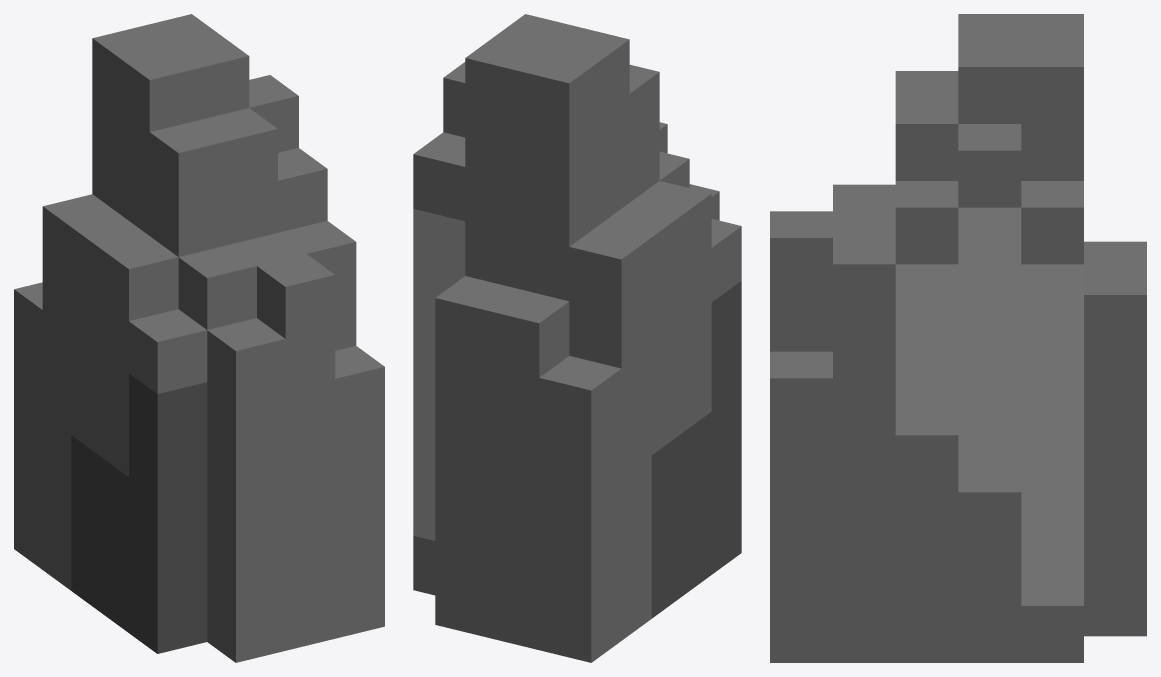
The model's file is Golem Arm.obj.
The picture shows the model from 3 angles, left to right: view 1: azimuth 30°, elevation 25°; view 2: azimuth 150°, elevation 25°; view 3: azimuth 270°, elevation 25°; orthographic projection. The views are drawn at different scales.
Bounding box in the file's own units: 4 × 10 × 6.
Materials: 1 (1 with a texture image).
